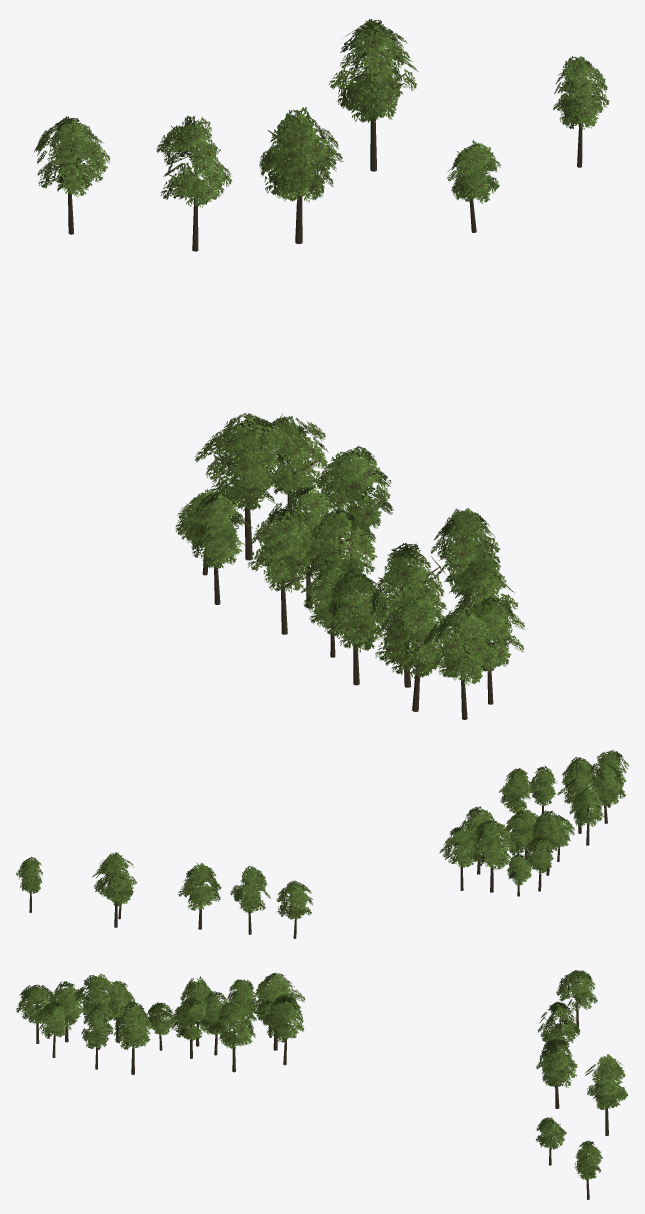
The model's file is TRB8-FOREST-CHUNK-7-1.glb.
3 renders of one model, top to bottom at view 1: azimuth 30°, elevation 25°; view 2: azimuth 150°, elevation 25°; view 3: azimuth 270°, elevation 25°, orthographic. The views are drawn at different scales.
Parts seen in each view (by area): view 1: TRB8-FOREST-CHUNK-7-1; view 2: TRB8-FOREST-CHUNK-7-1; view 3: TRB8-FOREST-CHUNK-7-1.
Part boxes in pixels (left/top/right/bottom): TRB8-FOREST-CHUNK-7-1: left=34, top=19, right=609, bottom=719; TRB8-FOREST-CHUNK-7-1: left=16, top=750, right=628, bottom=938; TRB8-FOREST-CHUNK-7-1: left=16, top=970, right=627, bottom=1199.
Bounding box in the file's own units: 30.05 × 8.38 × 40.64.
2 materials, 1 textured.
